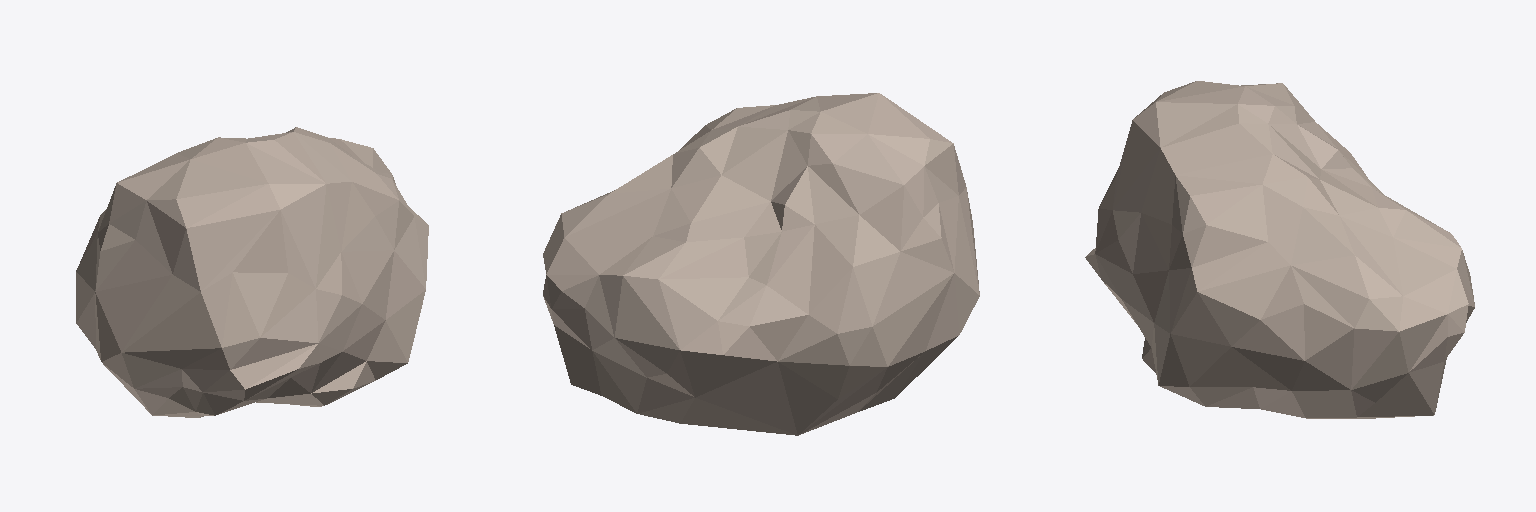
Rendered from dust.obj.
3 views of the same model, side by side, from view 1: azimuth 30°, elevation 25°; view 2: azimuth 150°, elevation 25°; view 3: azimuth 270°, elevation 25° (orthographic).
Visible parts, largest first — view 1: Cliff_Rock_Model_Mesh; view 2: Cliff_Rock_Model_Mesh; view 3: Cliff_Rock_Model_Mesh.
Boxes of the visible parts, box(x1,y1,x2,y2) form: Cliff_Rock_Model_Mesh: box(76, 127, 428, 417); Cliff_Rock_Model_Mesh: box(543, 93, 979, 435); Cliff_Rock_Model_Mesh: box(1085, 81, 1474, 418).
Bounding box in the file's own units: 1.06 × 0.796 × 1.03.